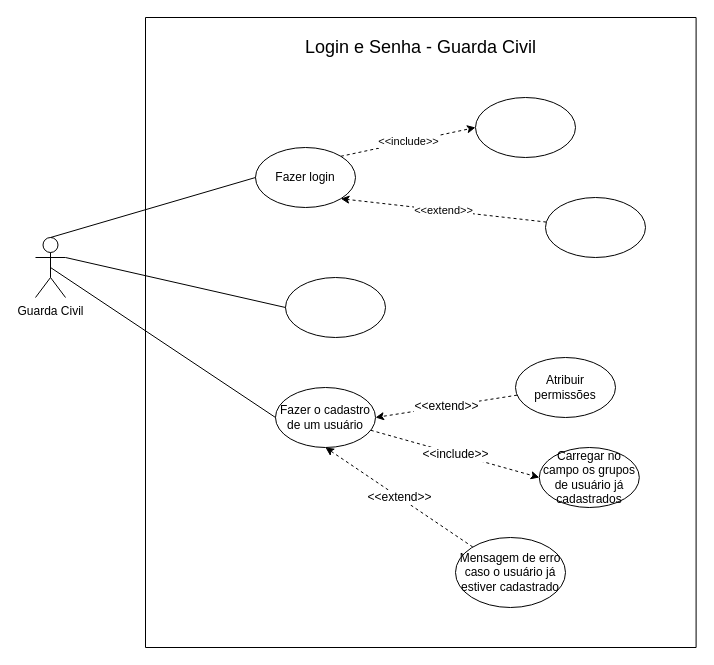
The diagram is 714 pixels wide and 665 high, and some of its shapes have lost their labels. Each missing label, with the box of its shape:
Acessar tela de cadastro de usuário: (284, 276, 386, 338)
Exibir erro de login: (544, 196, 646, 258)
Verificar senha: (474, 96, 576, 158)
